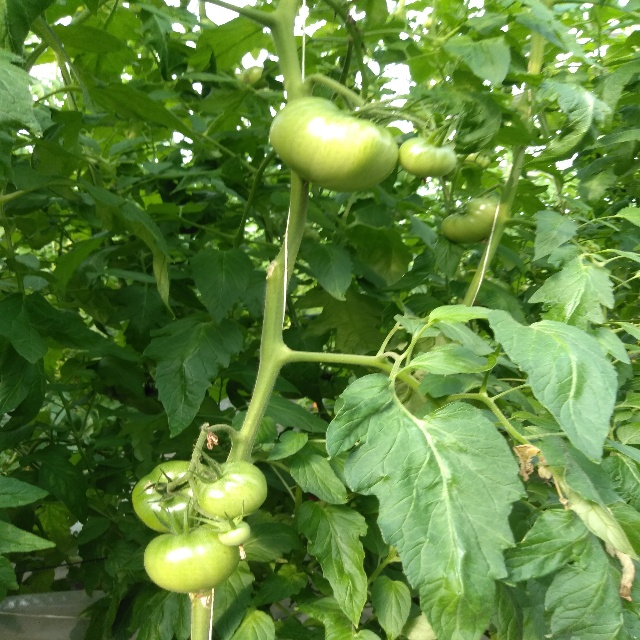b_green: (268, 97, 399, 193), (143, 523, 240, 593), (132, 460, 210, 533), (193, 460, 268, 519), (441, 198, 500, 244), (399, 136, 457, 178), (217, 520, 250, 546)
